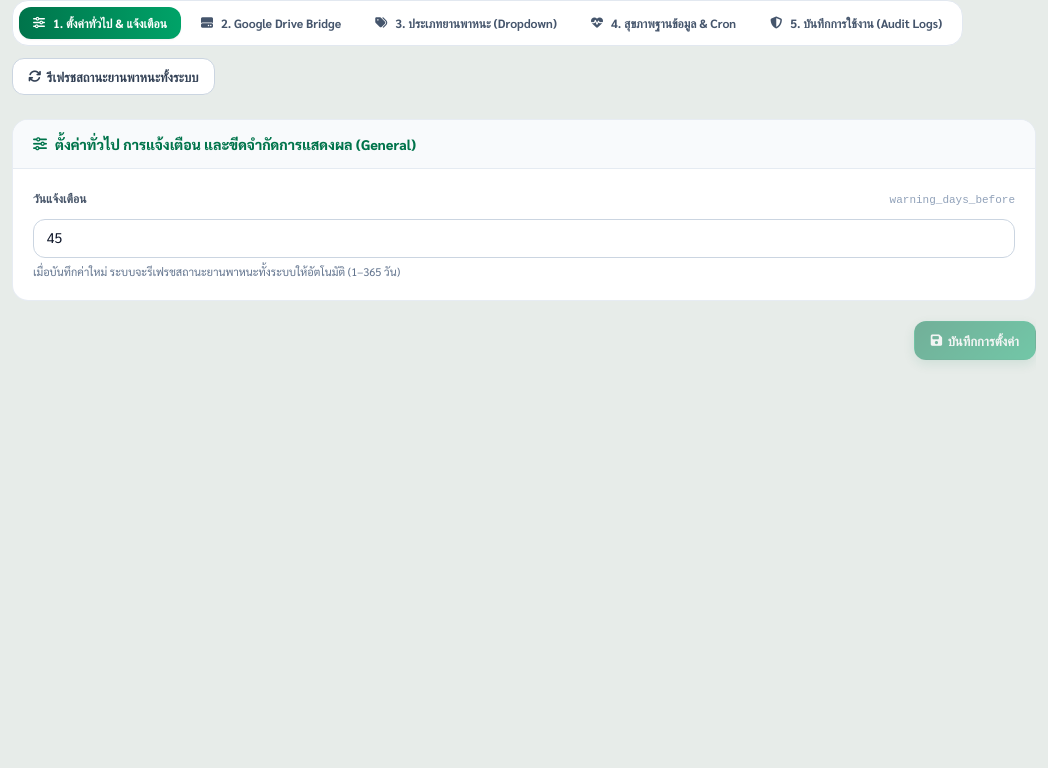
Test: v2.0 UI Flows — USER Role Block (Req 4.1) & 5-Tab SettingsPage › renders 5-tab SettingsPage including Google Drive Bridge (/exec) and Vehicle Types CRUD/Reorder tabs
The width and height of the screenshot is (1048, 768).
Later steps or results of the test are not shown.
What coordinates should you click on to do the following:
click the button "2. Google Drive Bridge"
I would click on:
 (271, 23)
Its box is [187,7,355,39].
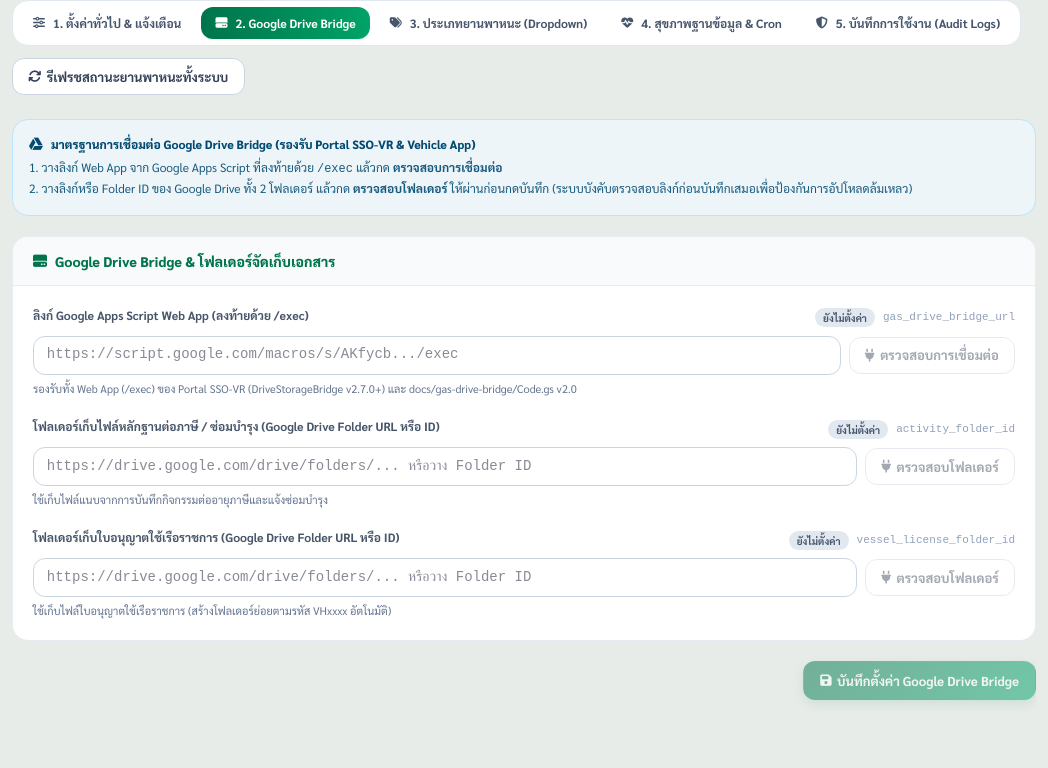
Check: the button "3. ประเภทยานพาหนะ (Dropdown)" is shown, box [376,7,601,39]
Check: the text "ลิงก์ Google Apps Script Web App (ลงท้ายด้วย /exec)" is shown, box [33,306,309,324]
Check: the text "ตรวจสอบการเชื่อมต่อ" is shown, box [393,159,502,175]
